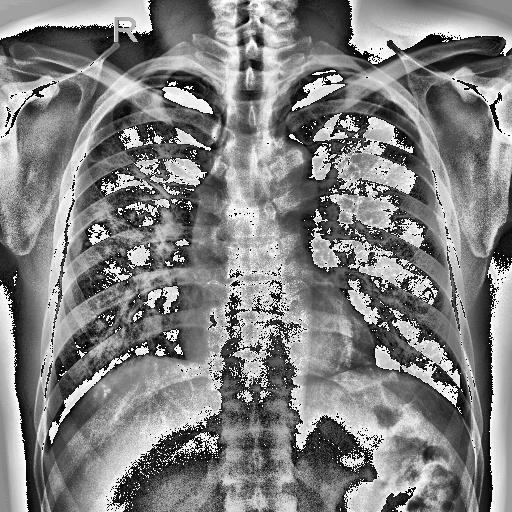13- Pulmonary fibrosis: (43, 72, 228, 430), (268, 68, 426, 218), (84, 119, 186, 289), (87, 140, 178, 200), (346, 86, 396, 148)
2- Calcification: (67, 232, 84, 260)
7- Lung Opacity: (84, 119, 186, 289)
8- Nodule-Mass: (43, 72, 228, 430), (84, 119, 186, 289), (79, 236, 131, 287), (84, 313, 114, 336), (90, 318, 115, 336), (122, 210, 148, 224)
